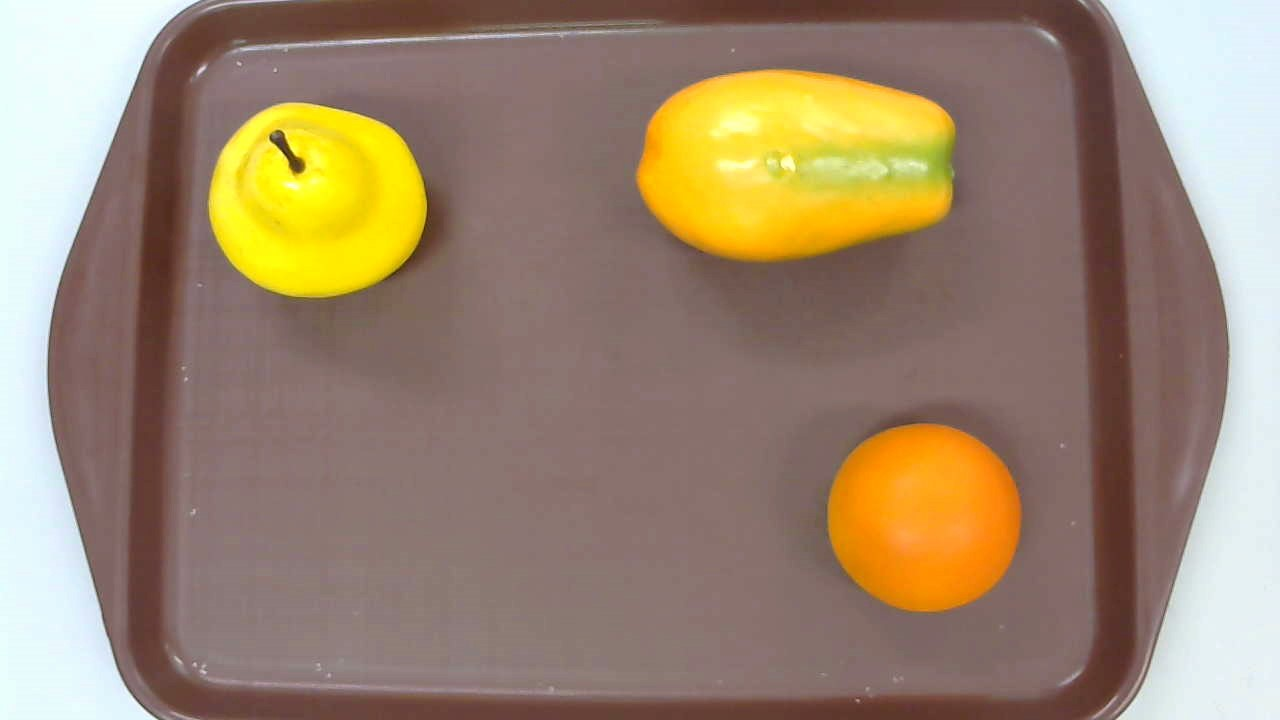bun: (826, 420, 1020, 612)
papya: (636, 70, 956, 264)
yellow pear: (207, 102, 427, 300)
